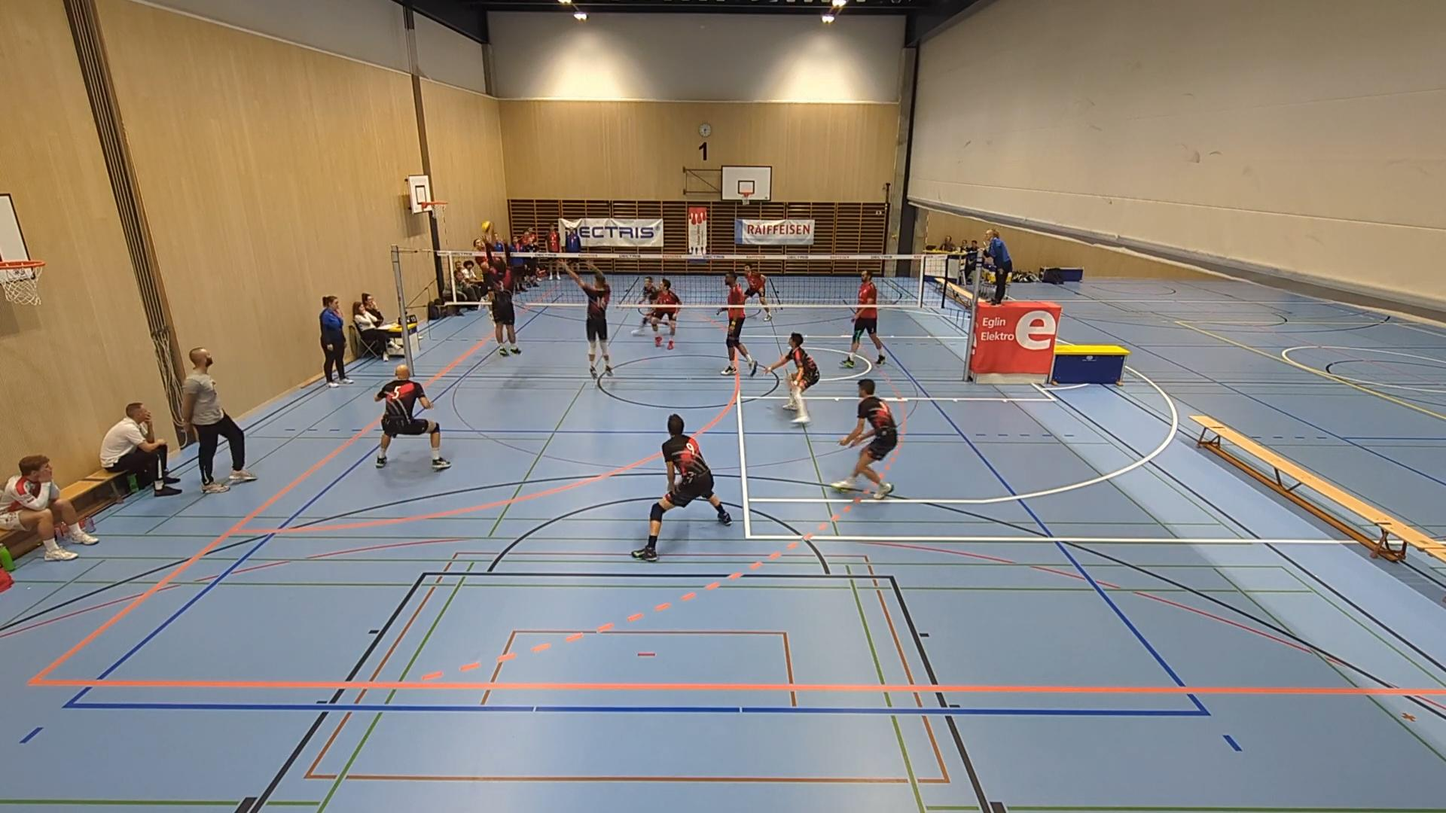Block: (560, 255, 618, 379), (470, 242, 525, 360)
Player: (632, 415, 731, 561), (374, 364, 450, 470), (831, 379, 897, 499), (765, 332, 819, 424), (840, 270, 885, 367), (718, 271, 758, 375), (649, 278, 680, 349), (744, 264, 770, 320), (639, 277, 657, 306)
ball: (481, 221, 492, 232)
